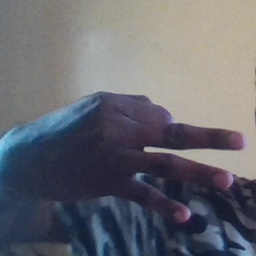K: (10, 88, 246, 225)
